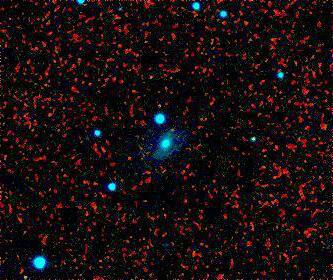star: (149, 80, 179, 110)
